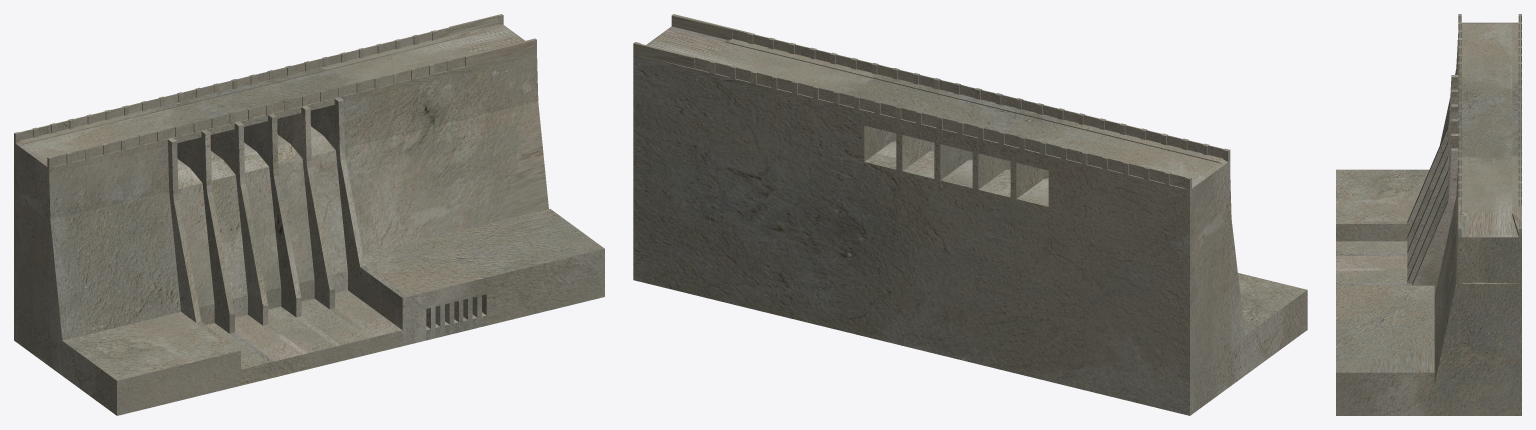
The model's file is dam.dae.
The picture shows the model from 3 angles, left to right: view 1: azimuth 30°, elevation 25°; view 2: azimuth 150°, elevation 25°; view 3: azimuth 270°, elevation 25°; orthographic projection. The views are drawn at different scales.
Visible parts, largest first — view 1: dam-body; view 2: dam-body; view 3: dam-body.
Boxes of the visible parts, x1,y1,x2,y2 form: dam-body: (14,14,604,415); dam-body: (633,14,1307,415); dam-body: (1336,14,1521,415).
Size of the model in its own units: 48.8 by 17.85 by 19.84.
